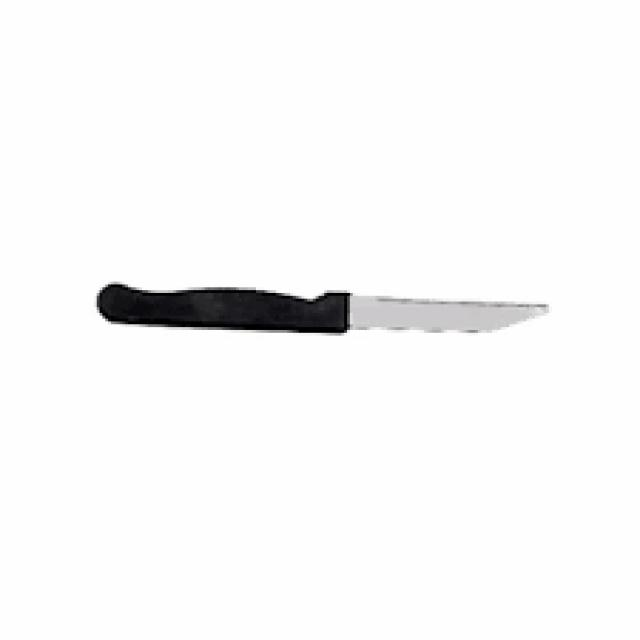Knife: (94, 279, 549, 333)
